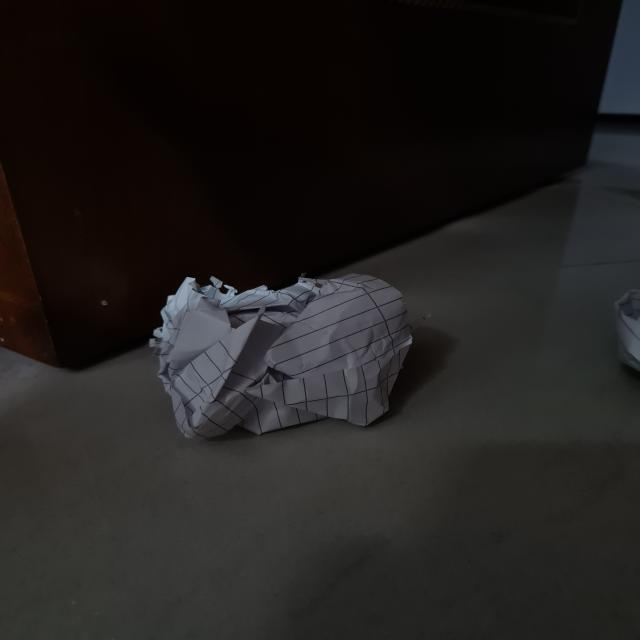Paper: (157, 275, 400, 431)
